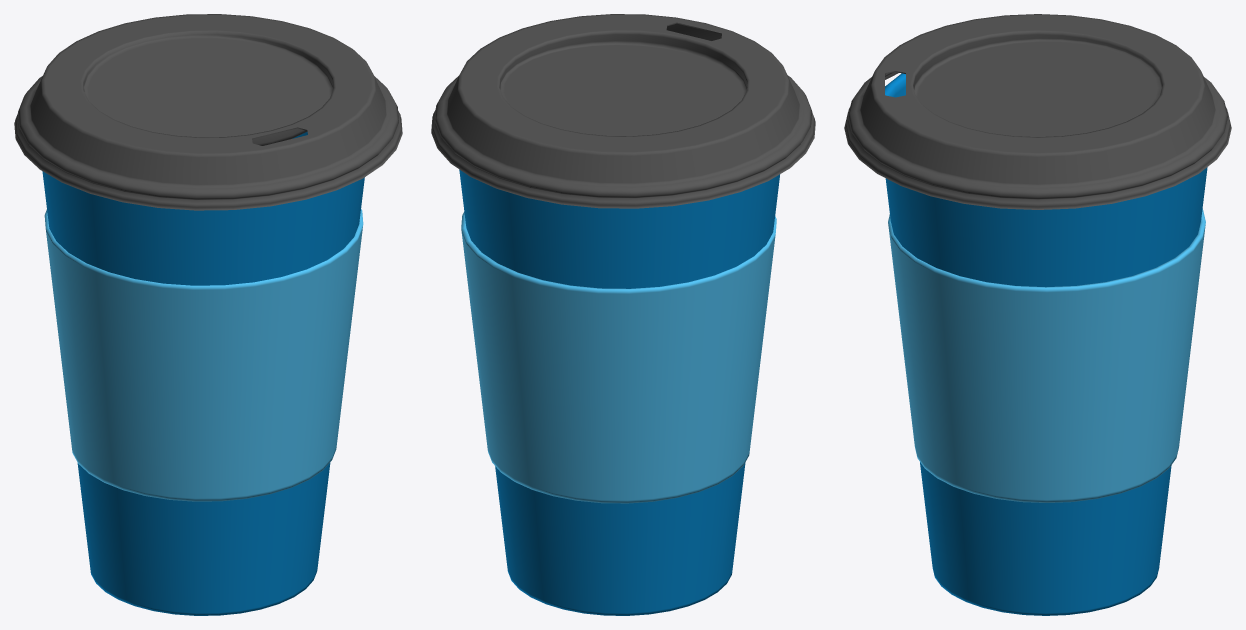
Rendered from Bardak3.fbx.
The picture shows the model from 3 angles, left to right: view 1: azimuth 30°, elevation 25°; view 2: azimuth 150°, elevation 25°; view 3: azimuth 270°, elevation 25°; orthographic projection.
Visible parts, largest first — view 1: Bardak3; view 2: Bardak3; view 3: Bardak3.
Part boxes in pixels (left/top/right/bottom): Bardak3: left=14, top=14, right=402, bottom=615; Bardak3: left=431, top=14, right=815, bottom=615; Bardak3: left=844, top=14, right=1231, bottom=615.
Size of the model in its own units: 69.99 by 96.5 by 69.99.
